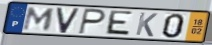0: (161, 12, 187, 39)
E: (103, 9, 134, 37)
K: (134, 11, 160, 38)
M: (21, 6, 57, 32)
P: (77, 8, 108, 36)
V: (55, 7, 82, 35)
